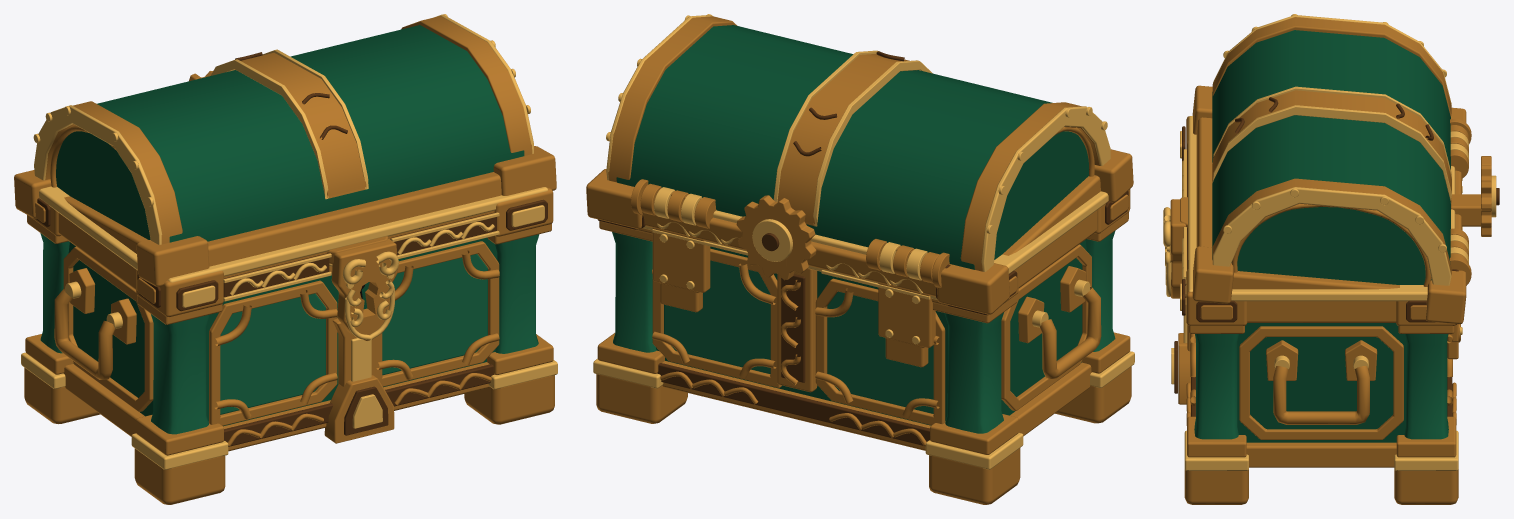
The model's file is temple-chest-CtTsIU2A.glb.
The picture shows the model from 3 angles, left to right: view 1: azimuth 30°, elevation 25°; view 2: azimuth 150°, elevation 25°; view 3: azimuth 270°, elevation 25°; orthographic projection. The views are drawn at different scales.
Visible parts, largest first — view 1: ChestLid__Deep emerald enamel, ChestBase__Warm antique gold, ChestBase__Emerald bevels, ChestLid__Warm antique gold, ChestBase__Raised polished gold, ChestBase__Recessed bronze, ChestLid__Raised polished gold, ChestBase__Deep emerald enamel; view 2: ChestLid__Deep emerald enamel, ChestBase__Warm antique gold, ChestBase__Emerald bevels, ChestLid__Warm antique gold, ChestBase__Raised polished gold, ChestLid__Raised polished gold, ChestBase__Recessed bronze, ChestBase__Deep emerald enamel; view 3: ChestLid__Deep emerald enamel, ChestBase__Warm antique gold, ChestLid__Warm antique gold, ChestBase__Deep emerald enamel, ChestLid__Raised polished gold, ChestBase__Raised polished gold, ChestBase__Emerald bevels, ChestBase__Recessed bronze.
Boxes of the visible parts, left/top/right/bottom form: ChestLid__Deep emerald enamel: left=56, top=25, right=524, bottom=242; ChestBase__Warm antique gold: left=24, top=71, right=554, bottom=504; ChestBase__Emerald bevels: left=40, top=233, right=539, bottom=434; ChestLid__Warm antique gold: left=14, top=16, right=556, bottom=286; ChestBase__Raised polished gold: left=21, top=186, right=557, bottom=469; ChestBase__Recessed bronze: left=35, top=198, right=547, bottom=446; ChestLid__Raised polished gold: left=33, top=14, right=533, bottom=266; ChestBase__Deep emerald enamel: left=68, top=237, right=497, bottom=426; ChestLid__Deep emerald enamel: left=616, top=25, right=1088, bottom=269; ChestBase__Warm antique gold: left=596, top=179, right=1131, bottom=504; ChestBase__Emerald bevels: left=612, top=231, right=1115, bottom=433; ChestLid__Warm antique gold: left=586, top=16, right=1133, bottom=314; ChestBase__Raised polished gold: left=593, top=187, right=1134, bottom=469; ChestLid__Raised polished gold: left=606, top=14, right=1110, bottom=299; ChestBase__Recessed bronze: left=641, top=191, right=1128, bottom=446; ChestBase__Deep emerald enamel: left=656, top=240, right=1086, bottom=425; ChestLid__Deep emerald enamel: left=1212, top=30, right=1450, bottom=284; ChestBase__Warm antique gold: left=1170, top=116, right=1491, bottom=504; ChestLid__Warm antique gold: left=1180, top=17, right=1466, bottom=324; ChestBase__Deep emerald enamel: left=1237, top=323, right=1405, bottom=442; ChestLid__Raised polished gold: left=1212, top=14, right=1451, bottom=285; ChestBase__Raised polished gold: left=1163, top=116, right=1496, bottom=470; ChestBase__Emerald bevels: left=1194, top=334, right=1448, bottom=439; ChestBase__Recessed bronze: left=1174, top=126, right=1499, bottom=416.
Size of the model in its own units: 2.88 by 2.19 by 2.09.
